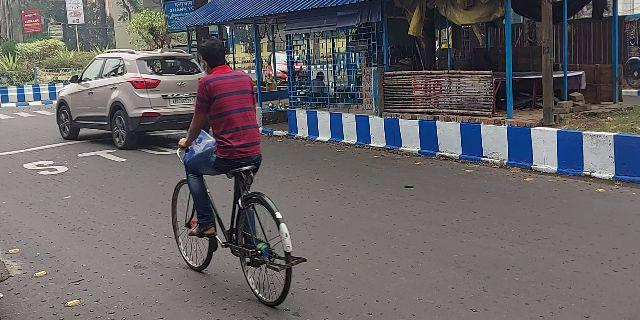Car: (51, 39, 200, 142)
Cycle: (165, 38, 310, 303)
